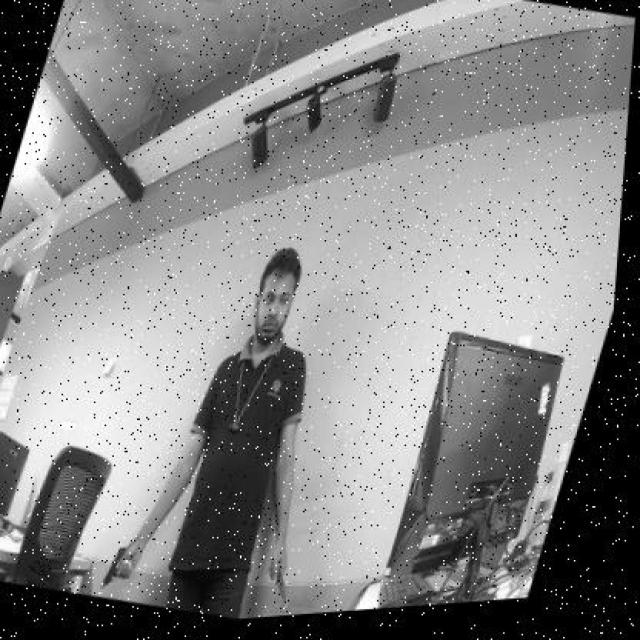weapon: (101, 544, 137, 588)
